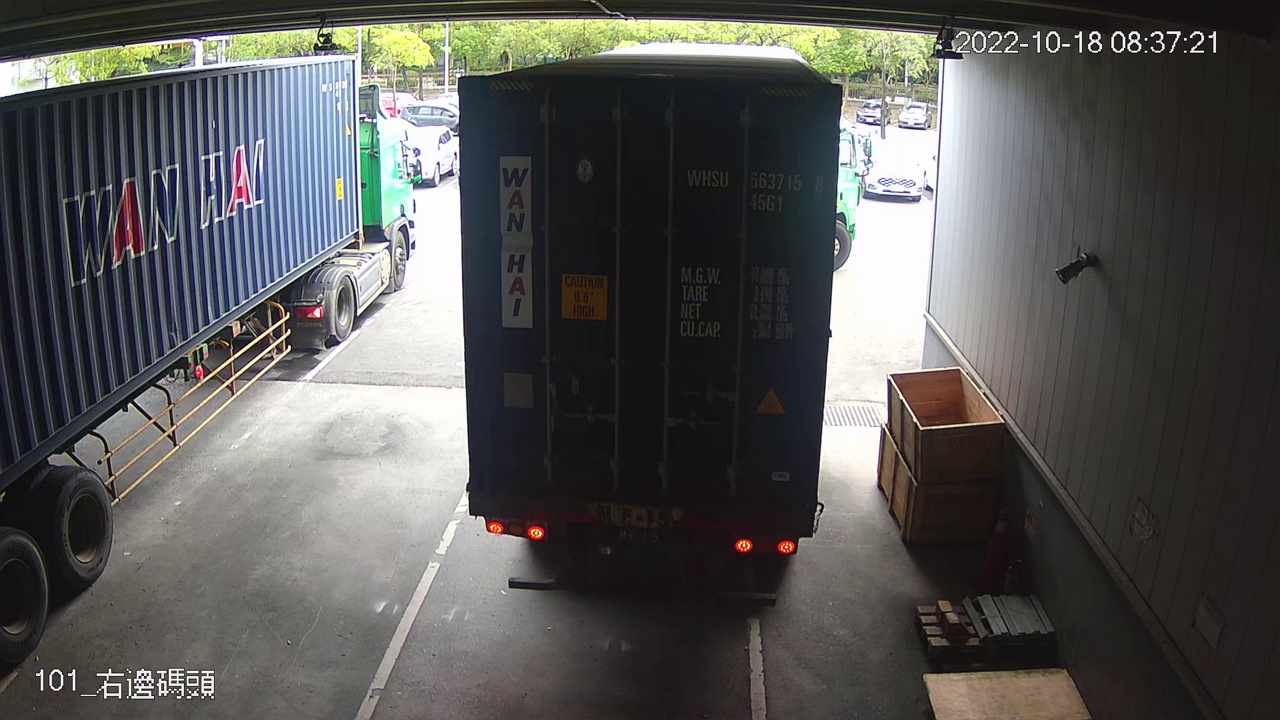container: (681, 161, 829, 219)
